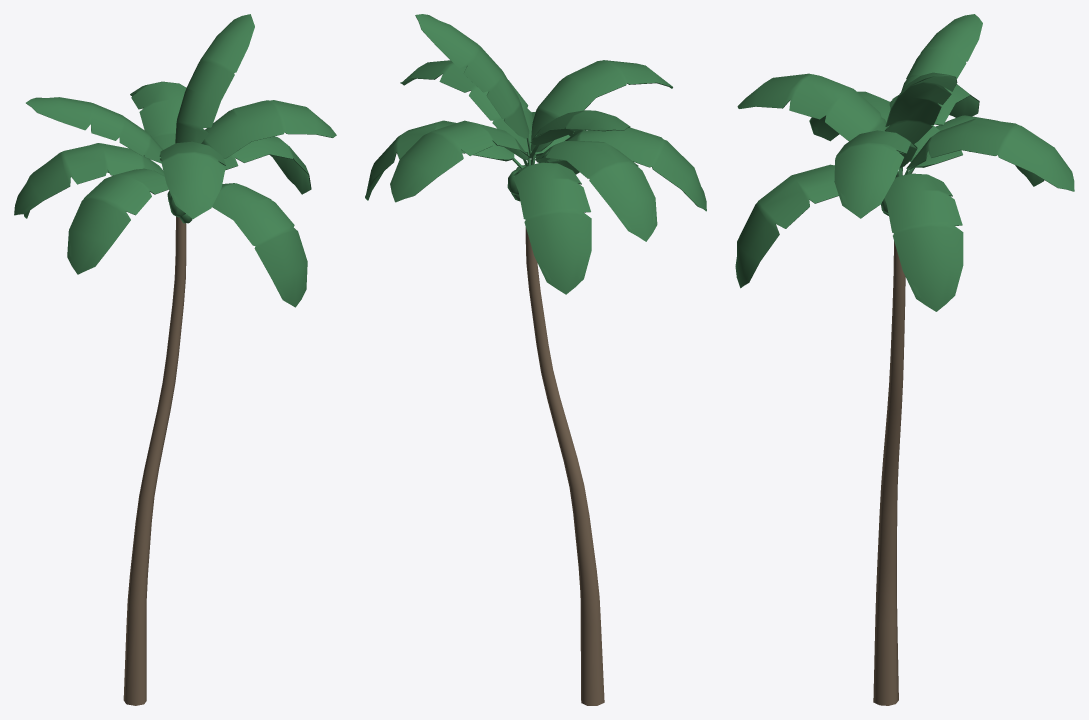
Rendered from PalmTree05_coconut.fbx.
3 renders of one model, left to right at view 1: azimuth 30°, elevation 25°; view 2: azimuth 150°, elevation 25°; view 3: azimuth 270°, elevation 25°, orthographic. The views are drawn at different scales.
Visible parts, largest first — view 1: PalmTree05_coconut; view 2: PalmTree05_coconut; view 3: PalmTree05_coconut.
Part boxes in pixels (x1=…): PalmTree05_coconut: x1=14, y1=14, x2=336, y2=705; PalmTree05_coconut: x1=365, y1=14, x2=706, y2=705; PalmTree05_coconut: x1=735, y1=14, x2=1074, y2=705.
Bounding box in the file's own units: 2.22 × 4.83 × 2.11.
